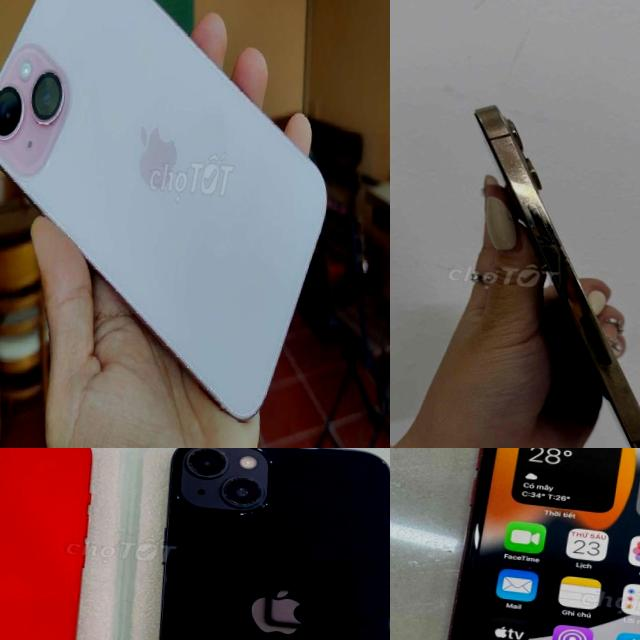scratch: (516, 212, 594, 286), (486, 133, 548, 215)
